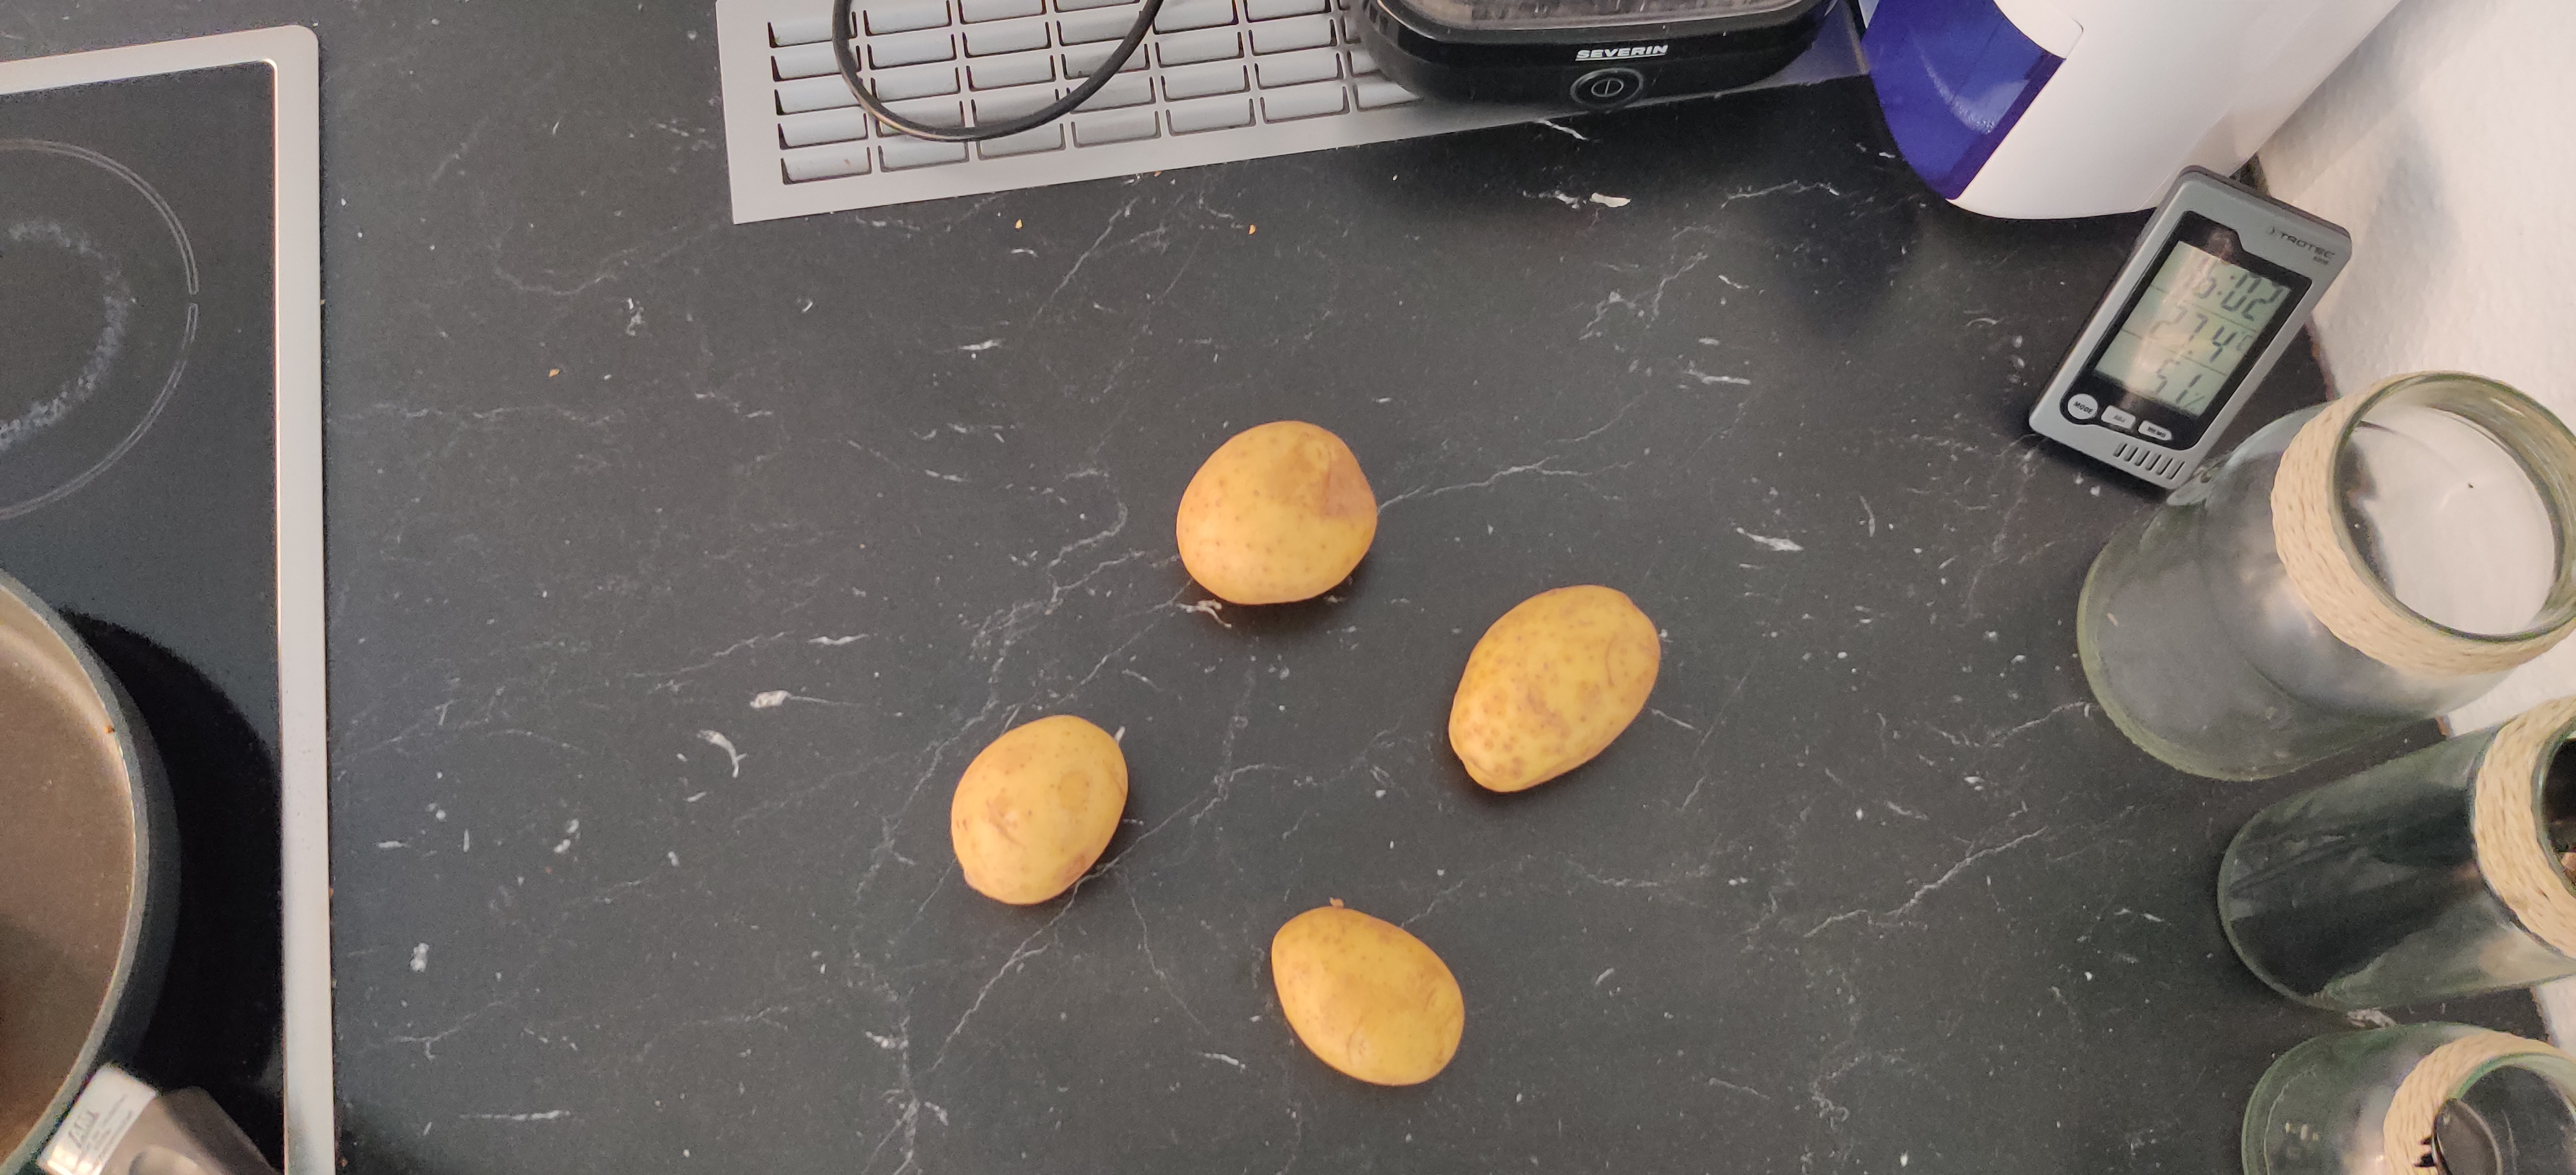Kartoffel: (1451, 587, 1661, 790), (1176, 422, 1380, 600), (1270, 907, 1464, 1090), (950, 713, 1129, 904)
